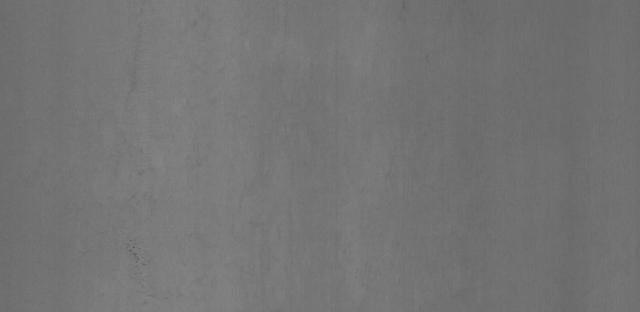inclusion: (121, 236, 151, 279)
